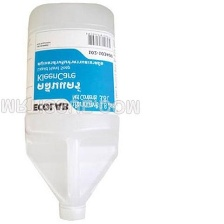cleaning_solution: (21, 0, 122, 223)
